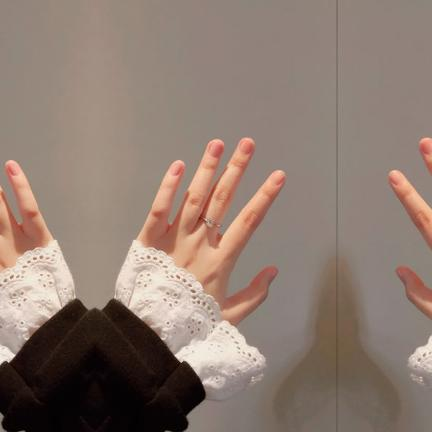Nail: (208, 141, 222, 157), (270, 171, 285, 185), (389, 171, 404, 185), (239, 139, 252, 155), (421, 139, 432, 155), (169, 163, 181, 176), (7, 163, 19, 176), (269, 269, 278, 283), (396, 269, 405, 283)
